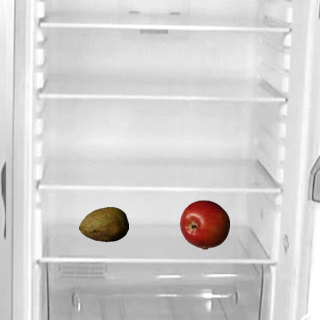Apple Braeburn: (179, 199, 229, 249)
Papaya: (78, 199, 128, 249)
